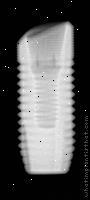DENTSPLY: (17, 22, 75, 176)
